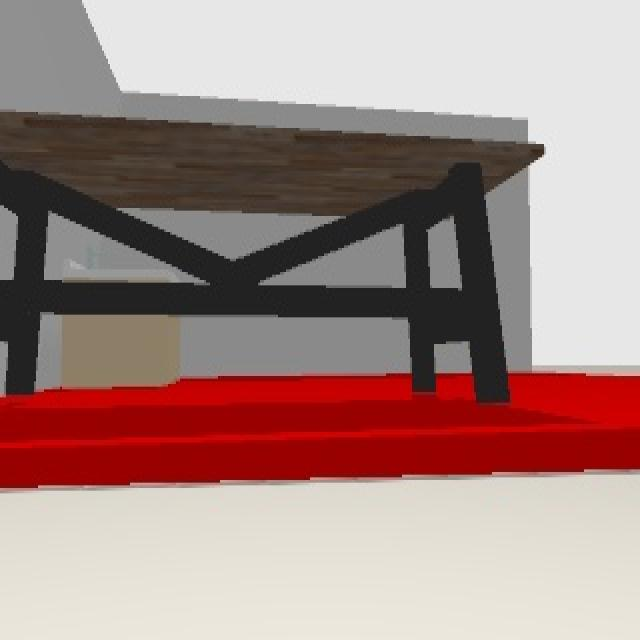dining: (2, 108, 546, 406)
